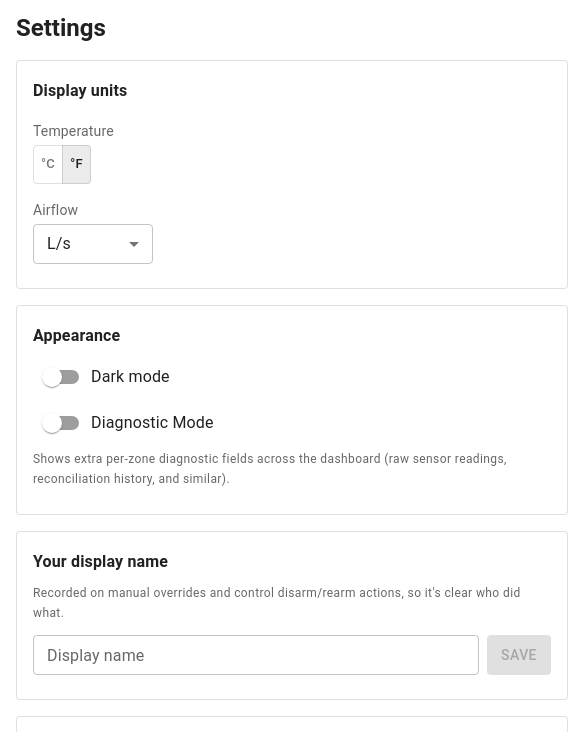
SettingsPage › switching airflow unit applies immediately and persists per-browser
The image size is (585, 732).
Step 1. Press the mouse on the dropdown → (59, 244), box [47,234,71,253]
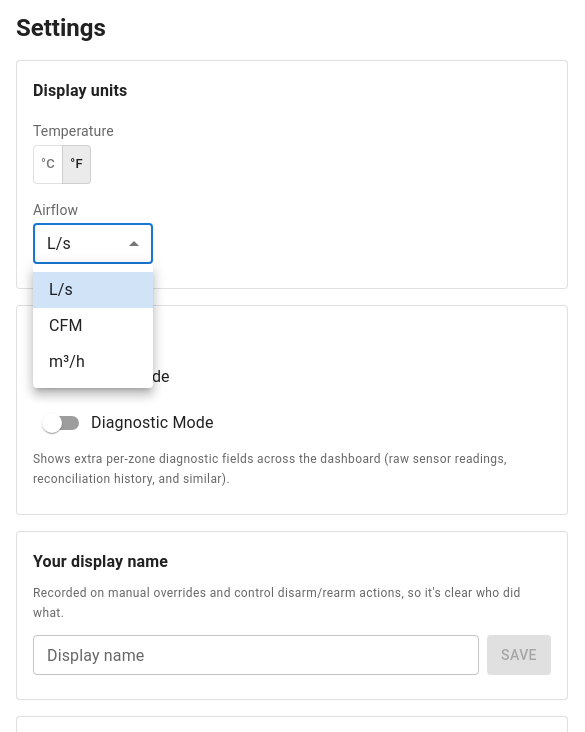
Step 2. Click the option "CFM" → (66, 326), box [49,316,83,335]
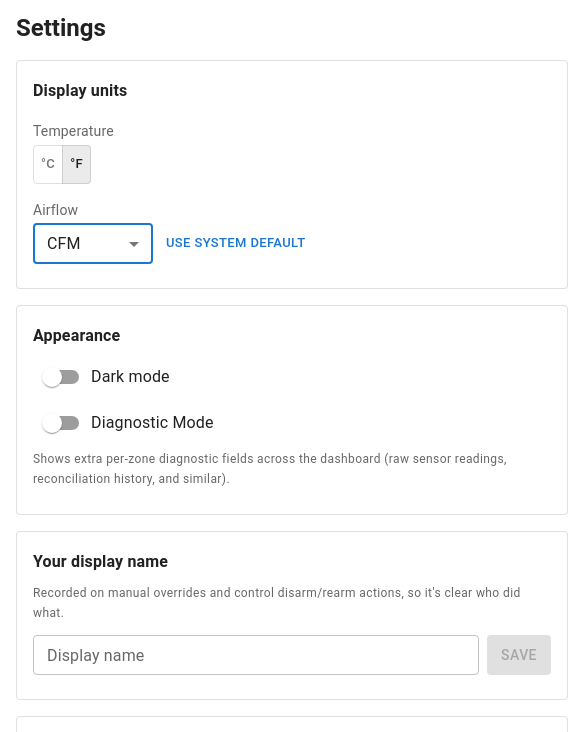
Result: the dropdown reads "CFM" at [47,234,81,253]
